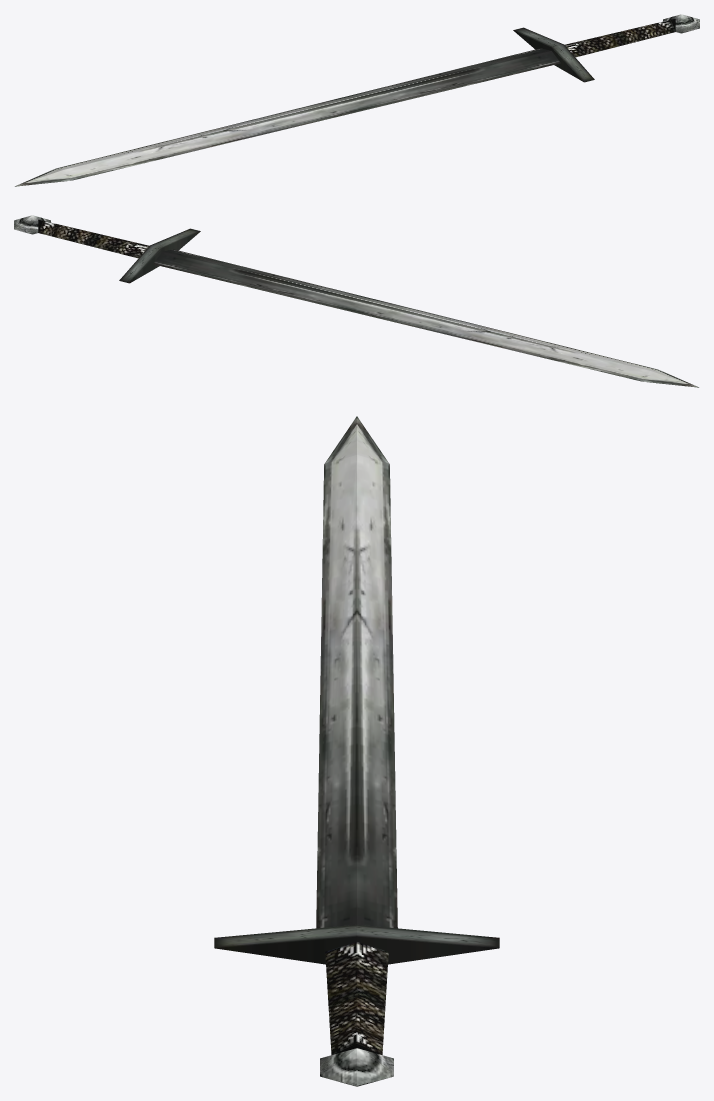
File: ITMW_030_1H_SWORD_LONG_01.glb
3 renders of one model, top to bottom at view 1: azimuth 30°, elevation 25°; view 2: azimuth 150°, elevation 25°; view 3: azimuth 270°, elevation 25°, orthographic. The views are drawn at different scales.
Visible parts, largest first — view 1: ITMW_030_1H_SWORD_LONG_01; view 2: ITMW_030_1H_SWORD_LONG_01; view 3: ITMW_030_1H_SWORD_LONG_01.
Boxes of the visible parts, x1,y1,x2,y2 form: ITMW_030_1H_SWORD_LONG_01: [15, 14, 699, 186]; ITMW_030_1H_SWORD_LONG_01: [14, 215, 698, 387]; ITMW_030_1H_SWORD_LONG_01: [214, 416, 499, 1086].
Bounding box in the file's own units: 1.11 × 0.03 × 0.2.
2 materials, 2 textured.
